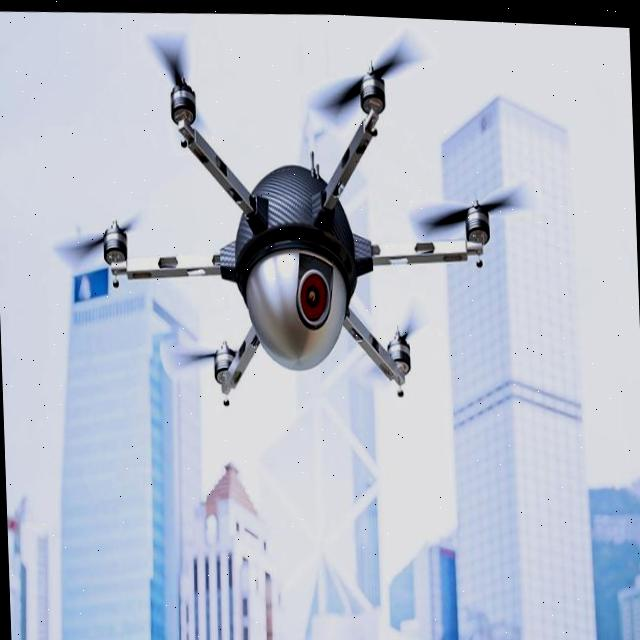drone: (66, 17, 528, 409)
